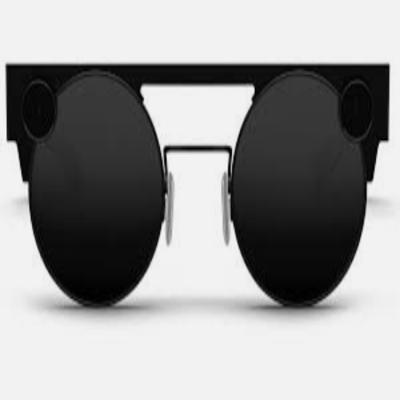glasses: (3, 55, 392, 316)
